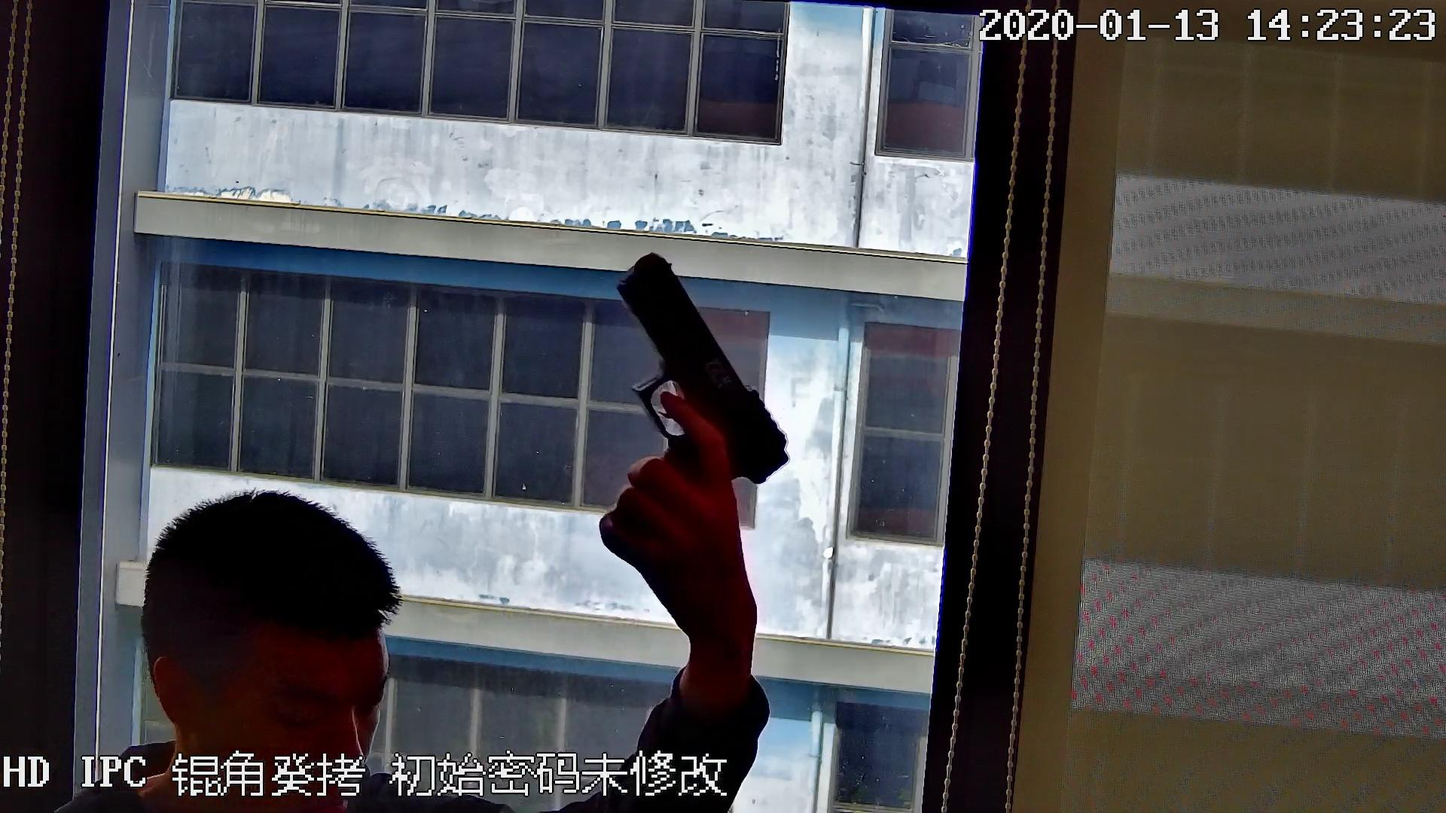gun: (592, 248, 803, 550)
